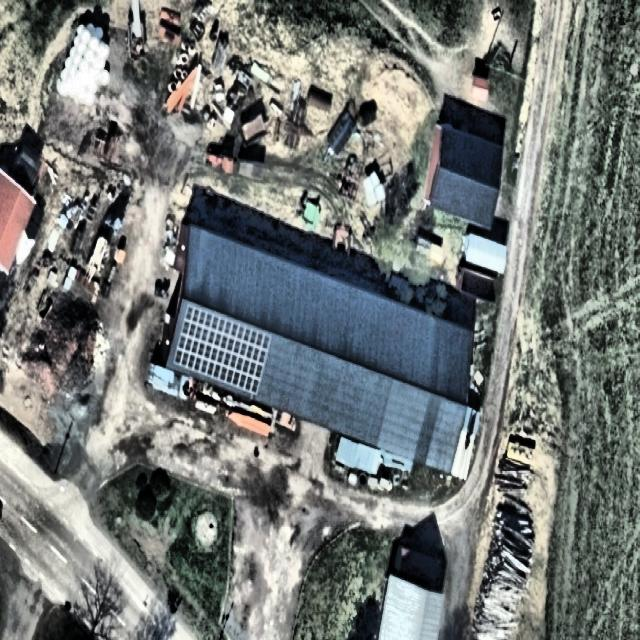roof_pv: (174, 305, 276, 395)
